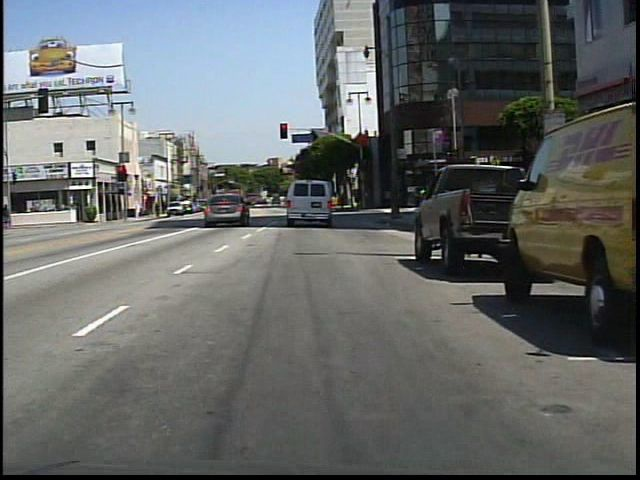person: (298, 186, 317, 221), (239, 193, 254, 218), (5, 202, 16, 230)
